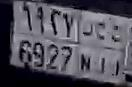2: (47, 8, 59, 71)
6: (19, 3, 32, 65)
7: (61, 13, 71, 72)
9: (32, 5, 45, 68)
J: (109, 22, 123, 79), (96, 18, 108, 77)
N: (81, 17, 94, 75)
